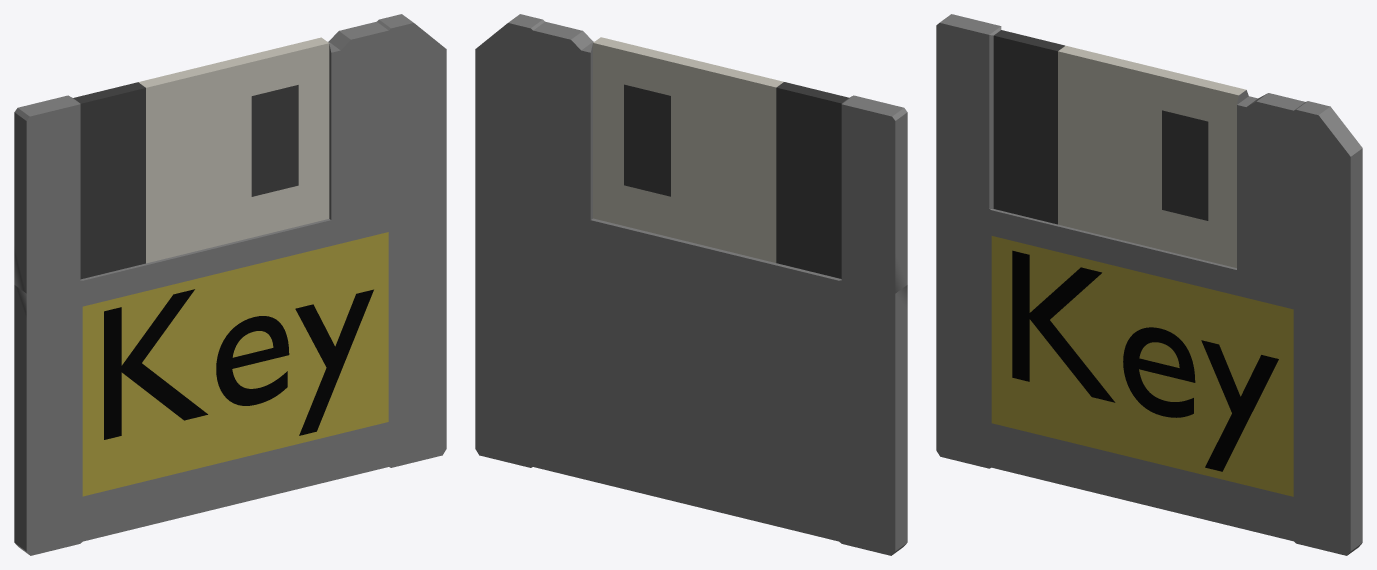
The model's file is FloppyDisk.fbx.
3 views of the same model, side by side, from view 1: azimuth 30°, elevation 25°; view 2: azimuth 150°, elevation 25°; view 3: azimuth 330°, elevation 25° (orthographic).
Parts seen in each view (by area): view 1: Cube_Cube.002, Object_Text.001; view 2: Cube_Cube.002; view 3: Cube_Cube.002, Object_Text.001.
Boxes of the visible parts, x1,y1,x2,y2 form: Cube_Cube.002: (14, 14, 446, 555); Object_Text.001: (104, 289, 373, 439); Cube_Cube.002: (475, 14, 907, 555); Cube_Cube.002: (936, 14, 1362, 555); Object_Text.001: (1012, 250, 1278, 471).
Bounding box in the file's own units: 200 × 200 × 10.1.
